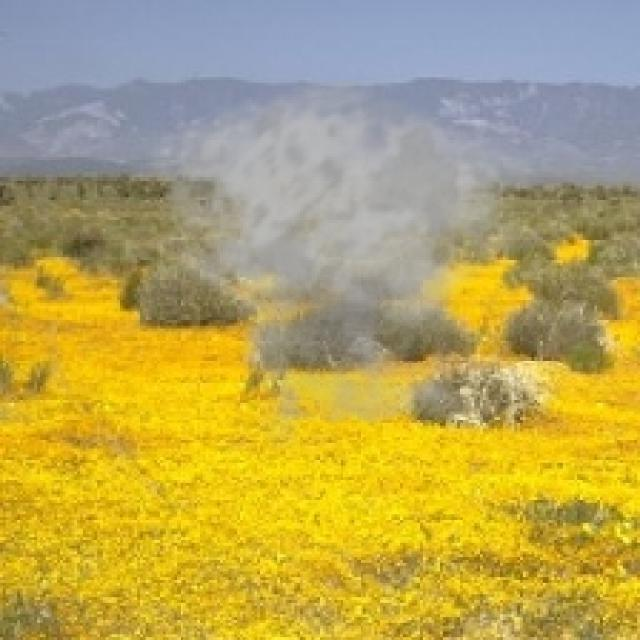Smoke: (146, 77, 543, 460)
